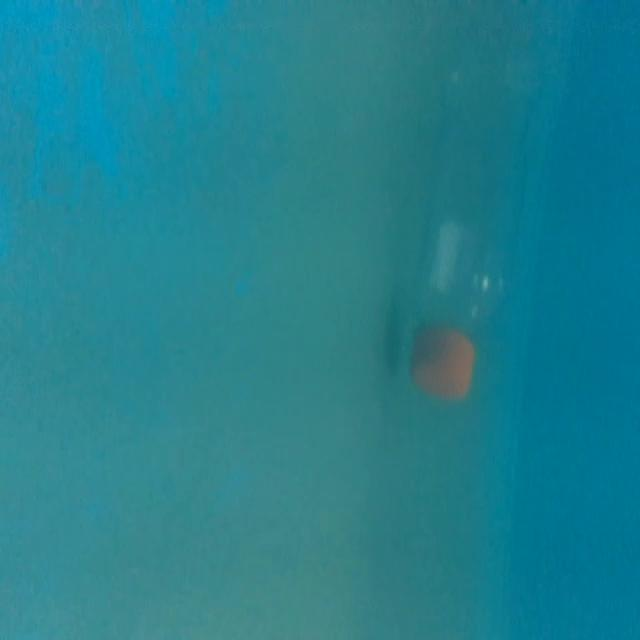plastic bottle: (389, 0, 542, 405)
